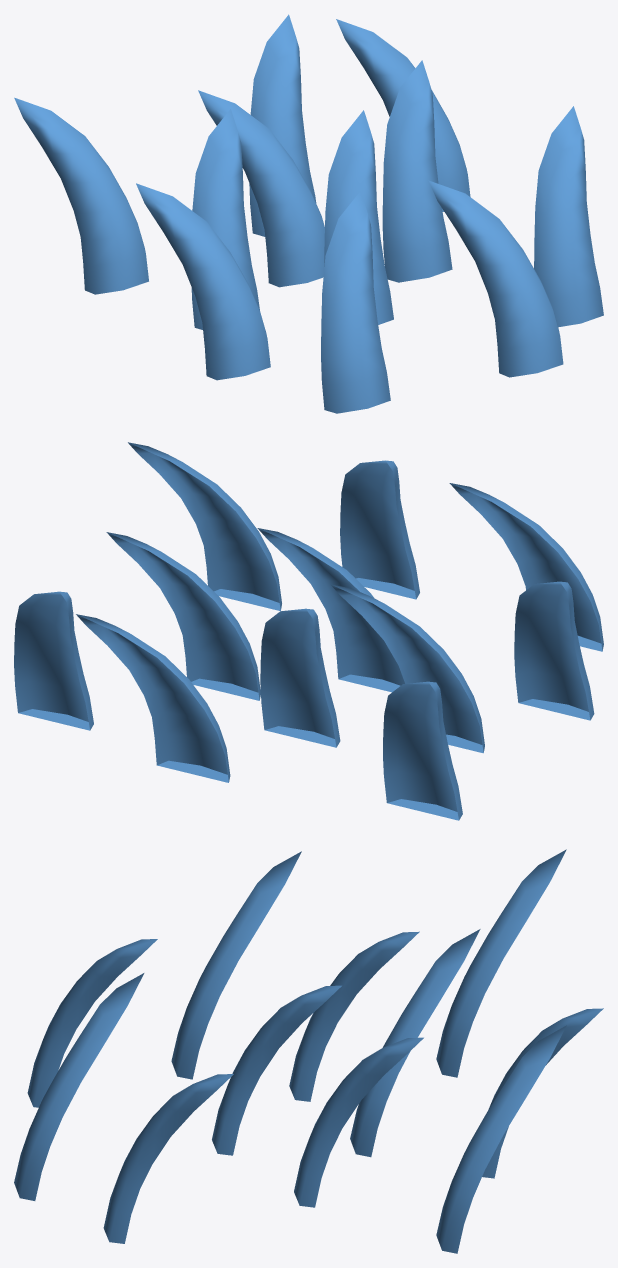
File: winter_grass_2.fbx
3 views of the same model, one above another, from view 1: azimuth 30°, elevation 25°; view 2: azimuth 150°, elevation 25°; view 3: azimuth 270°, elevation 25° (orthographic). The views are drawn at different scales.
Parts seen in each view (by area): view 1: Plane113, Plane119, Plane122, Plane120, Plane123, Plane114, Plane121, Plane115, Plane117, Plane116, Plane118; view 2: Plane117, Plane119, Plane114, Plane120, Plane121, Plane123, Plane118, Plane122, Plane115, Plane116, Plane113; view 3: Plane120, Plane122, Plane123, Plane118, Plane121, Plane119, Plane114, Plane116, Plane115, Plane113, Plane117.
Part boxes in pixels (box(x1,y1,x2,y2)): Plane113: box(321, 191, 390, 413); Plane119: box(382, 60, 452, 282); Plane122: box(428, 180, 563, 377); Plane120: box(136, 183, 270, 380); Plane123: box(14, 97, 148, 294); Plane114: box(534, 106, 603, 327); Plane121: box(198, 90, 324, 287); Plane115: box(191, 109, 259, 329); Plane117: box(249, 14, 316, 236); Plane116: box(324, 110, 393, 324); Plane118: box(336, 19, 470, 211); Plane117: box(76, 614, 230, 782); Plane119: box(106, 532, 260, 700); Plane114: box(128, 442, 281, 610); Plane120: box(514, 581, 594, 720); Plane121: box(260, 608, 340, 747); Plane123: box(383, 681, 462, 820); Plane118: box(14, 591, 93, 730); Plane122: box(340, 460, 419, 599); Plane115: box(330, 584, 484, 753); Plane116: box(257, 528, 404, 692); Plane113: box(449, 483, 603, 651); Plane120: box(171, 851, 301, 1079); Plane122: box(14, 973, 144, 1200); Plane123: box(436, 849, 566, 1077); Plane118: box(436, 1025, 566, 1253); Plane121: box(350, 929, 480, 1157); Plane119: box(294, 1037, 423, 1207); Plane114: box(103, 1074, 233, 1243); Plane116: box(212, 985, 341, 1155); Plane115: box(289, 931, 419, 1101); Plane113: box(27, 939, 157, 1107); Plane117: box(482, 1008, 603, 1178).
Bounding box in the file's own units: 9.6 × 3.63 × 10.65.
